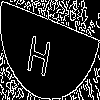H: (25, 24, 55, 78)
